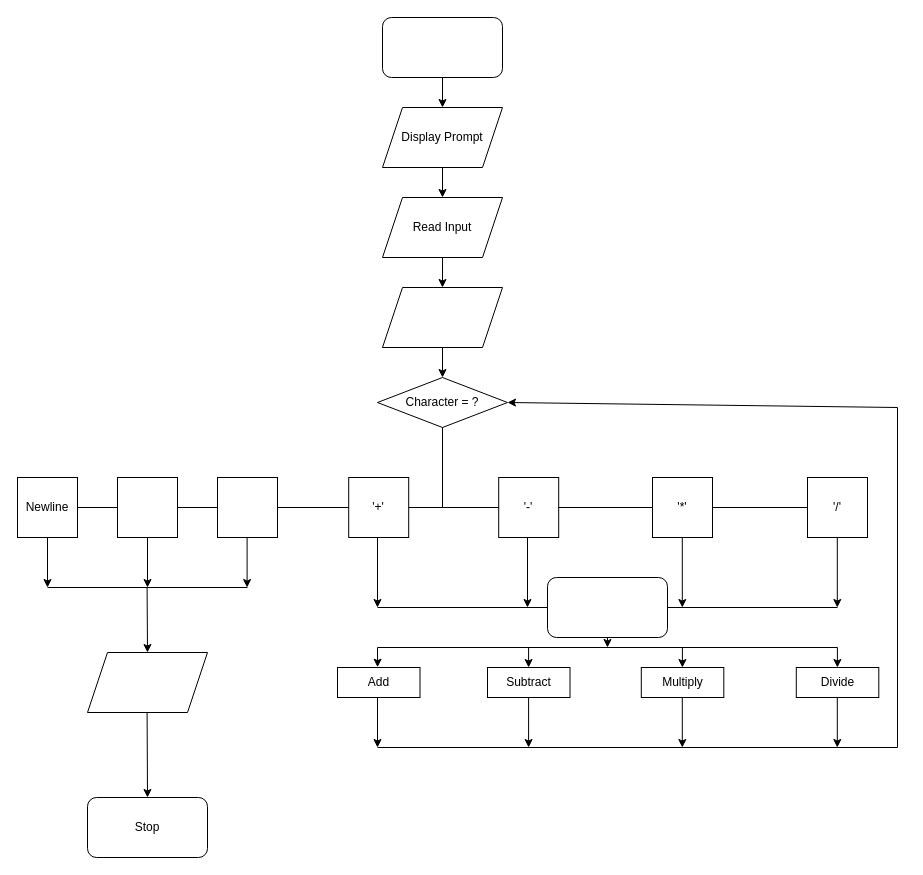
This 923x875 diagram has some shape labels left out. Each missing label, with the centre of its shape:
ASCII to Decimal: (x=607, y=607)
Initialize Result to First Number: (x=442, y=317)
Invalid Character: (x=247, y=507)
Null Terminator: (x=147, y=507)
Output Result: (x=147, y=682)
Start: (x=442, y=47)
